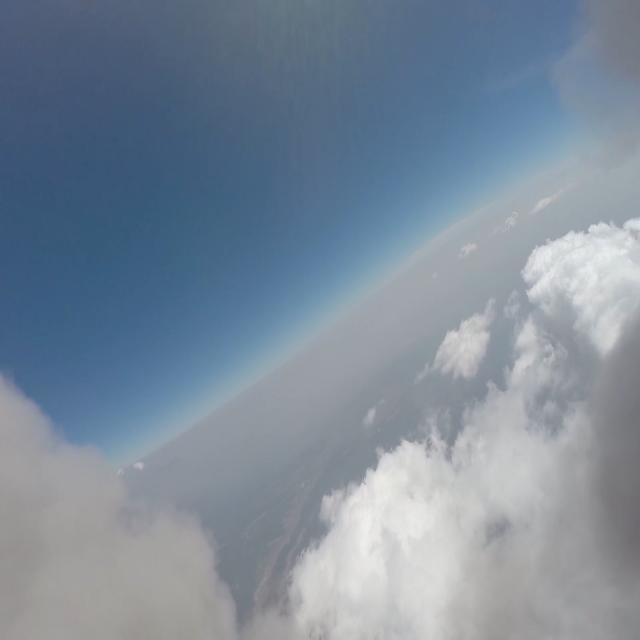Plume: (0, 356, 246, 640)
